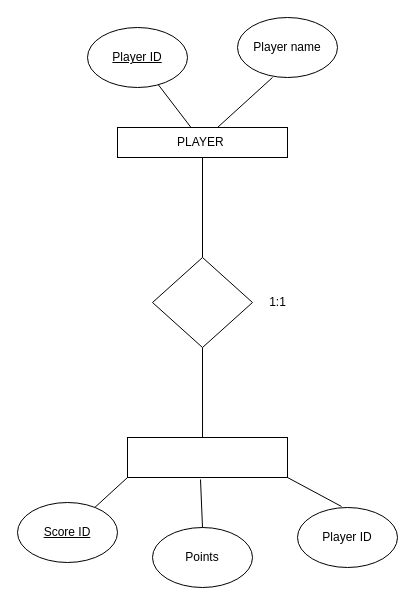
Some shapes in this 415 by 605 pixel diagram are drawn without their labels. The centre of each missing label's shape, as x and y in pixels:
"Have" belongs at [202,302].
"SCORE" belongs at [207,457].
